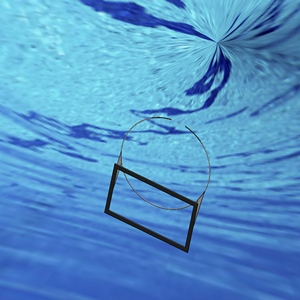circle: (101, 115, 213, 253)
